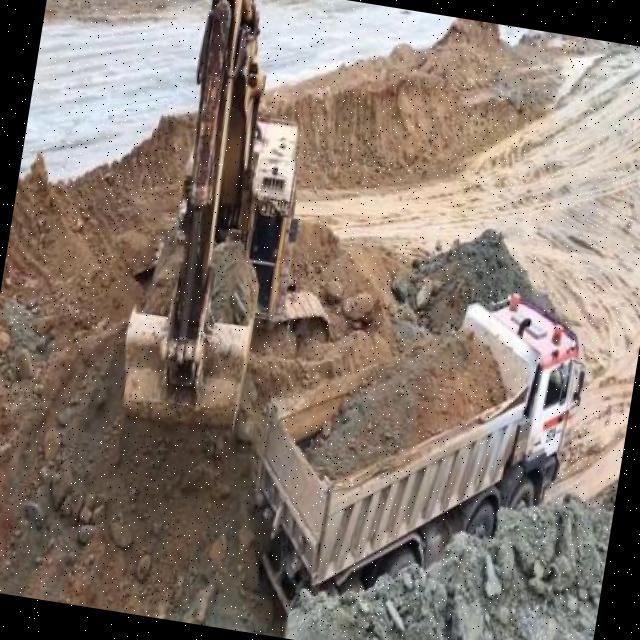Dump Truck: (238, 258, 594, 640), (51, 0, 85, 9)
Excavator: (106, 0, 381, 437)
